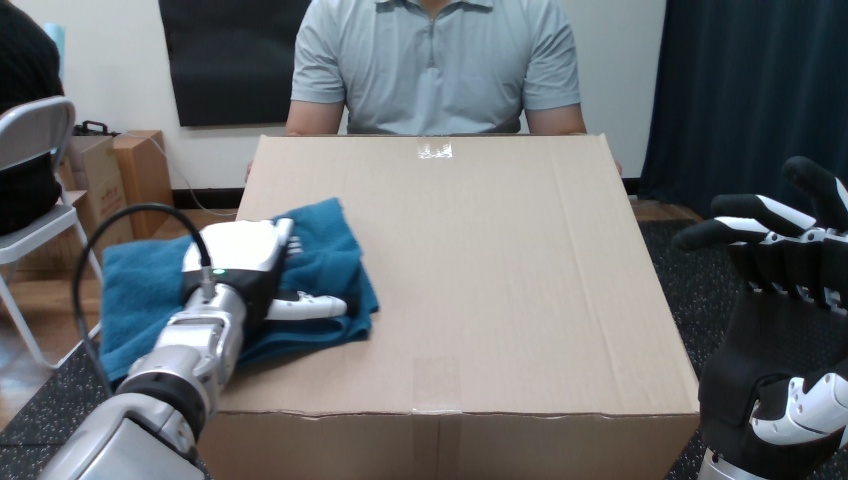left robot hand: (40, 218, 348, 479), (673, 156, 847, 479), (673, 156, 847, 313)
